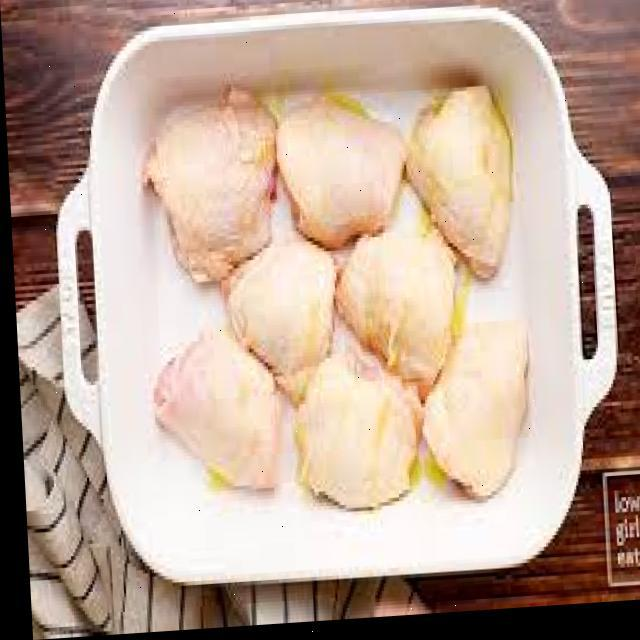thigh: (140, 92, 288, 286), (140, 326, 284, 514), (414, 326, 550, 520), (404, 85, 516, 292), (332, 220, 448, 414), (268, 100, 414, 252), (301, 354, 418, 523), (217, 240, 336, 398)
